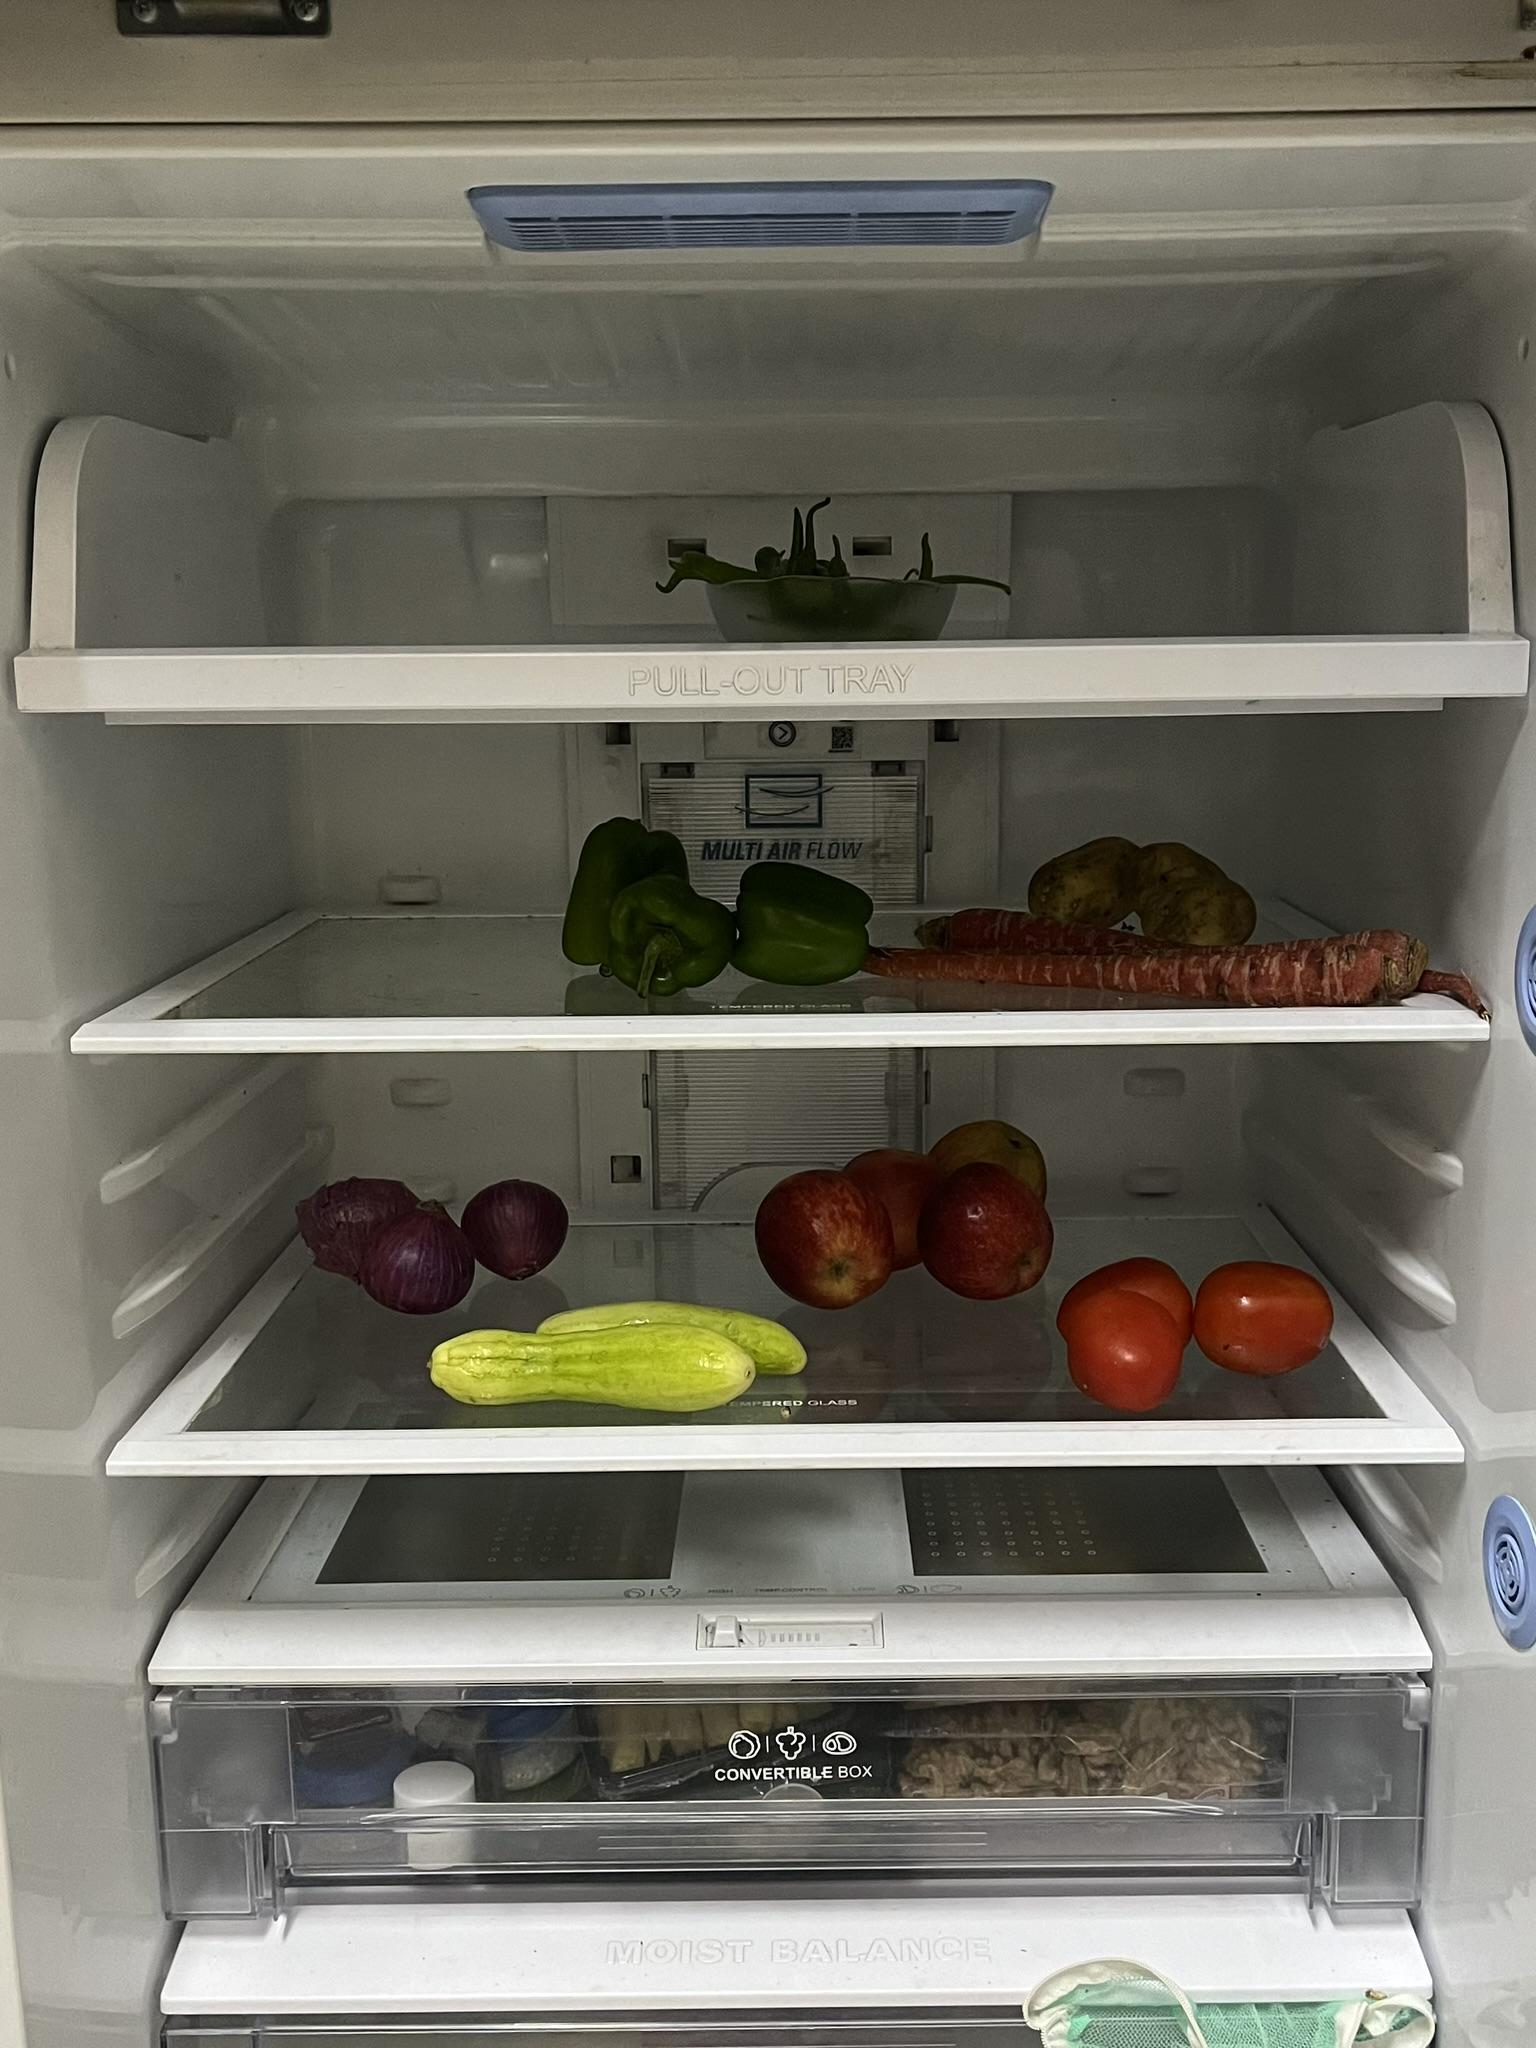apple: (760, 1116, 1054, 1313)
capsicum: (557, 813, 876, 987)
carrots: (876, 910, 1473, 1003)
chillies: (647, 497, 997, 643)
cucumber: (434, 1297, 810, 1413)
onion: (300, 1163, 570, 1313)
potato: (1023, 837, 1267, 937)
tomato: (1057, 1256, 1329, 1413)
